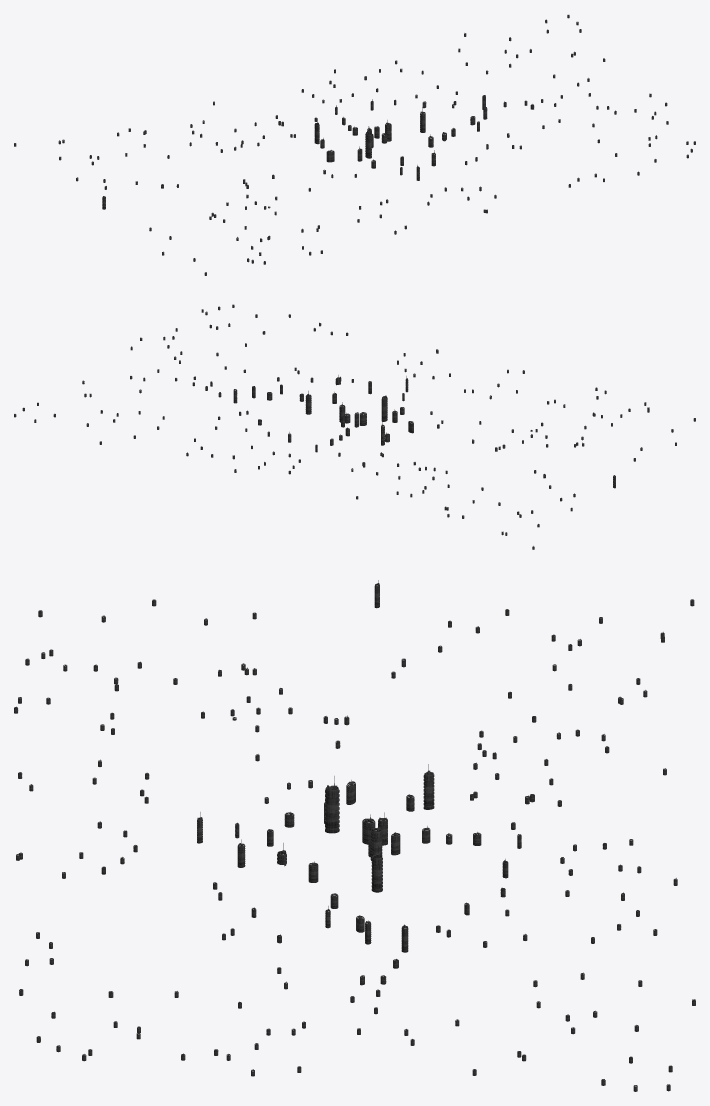
Rendered from city-layer-5.glb.
3 renders of one model, top to bottom at view 1: azimuth 30°, elevation 25°; view 2: azimuth 150°, elevation 25°; view 3: azimuth 270°, elevation 25°, orthographic. The views are drawn at different scales.
Parts seen in each view (by area): view 1: Scatter city_SC low-poly building facade_0.023, Scatter city_SC low-poly building facade_0.021, Scatter city_SC low-poly building facade_0.025, Scatter city_SC low-poly building facade_0.026, Scatter city_SC low-poly building facade_0.024, Scatter city_SC low-poly building facade_0.022; view 2: Scatter city_SC low-poly building facade_0.023, Scatter city_SC low-poly building facade_0.025, Scatter city_SC low-poly building facade_0.024, Scatter city_SC low-poly building facade_0.021, Scatter city_SC low-poly building facade_0.022, Scatter city_SC low-poly building facade_0.026; view 3: Scatter city_SC low-poly building facade_0.023, Scatter city_SC low-poly building facade_0.024, Scatter city_SC low-poly building facade_0.021, Scatter city_SC low-poly building facade_0.025, Scatter city_SC low-poly building facade_0.026, Scatter city_SC low-poly building facade_0.022.
Boxes of the visible parts, x1,y1,x2,y2 form: Scatter city_SC low-poly building facade_0.023: (92,29,688,264); Scatter city_SC low-poly building facade_0.021: (58,49,656,263); Scatter city_SC low-poly building facade_0.025: (59,29,651,255); Scatter city_SC low-poly building facade_0.026: (97,14,688,275); Scatter city_SC low-poly building facade_0.024: (103,21,695,261); Scatter city_SC low-poly building facade_0.022: (14,19,692,254); Scatter city_SC low-poly building facade_0.023: (37,304,646,511); Scatter city_SC low-poly building facade_0.025: (53,332,676,527); Scatter city_SC low-poly building facade_0.024: (22,309,673,518); Scatter city_SC low-poly building facade_0.021: (84,323,649,535); Scatter city_SC low-poly building facade_0.022: (34,306,606,549); Scatter city_SC low-poly building facade_0.026: (14,311,695,514); Scatter city_SC low-poly building facade_0.023: (18,634,638,1085); Scatter city_SC low-poly building facade_0.024: (79,615,666,1091); Scatter city_SC low-poly building facade_0.021: (14,632,677,1061); Scatter city_SC low-poly building facade_0.025: (19,599,695,1075); Scatter city_SC low-poly building facade_0.026: (16,580,670,1091); Scatter city_SC low-poly building facade_0.022: (18,599,694,1072).
Size of the model in its own units: 49.93 by 2.7 by 29.57.
Materials: 1 (1 with a texture image).
